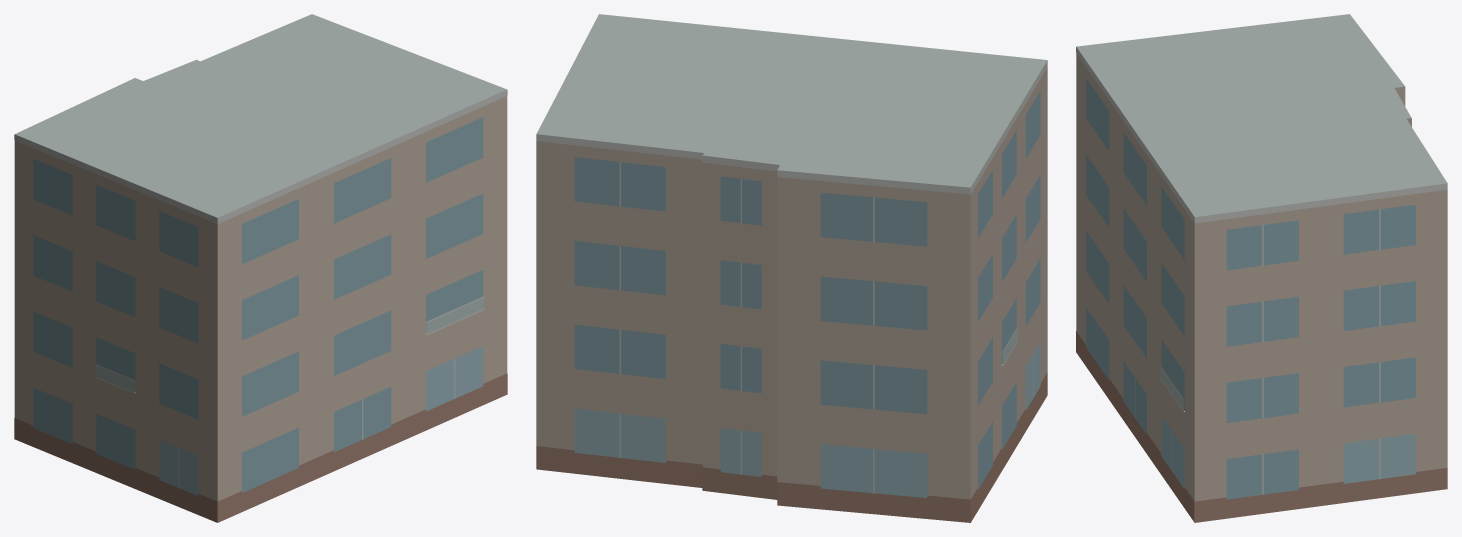
The model's file is survey-upis-32585699.glb.
3 views of the same model, side by side, from view 1: azimuth 30°, elevation 25°; view 2: azimuth 150°, elevation 25°; view 3: azimuth 270°, elevation 25° (orthographic). The views are drawn at different scales.
Visible parts, largest first — view 1: survey-upis-32585699.tmp; view 2: survey-upis-32585699.tmp; view 3: survey-upis-32585699.tmp.
Part boxes in pixels (x1,y1,x2,y2): survey-upis-32585699.tmp: (14,14,507,522); survey-upis-32585699.tmp: (536,14,1047,522); survey-upis-32585699.tmp: (1076,14,1447,522).
Bounding box in the file's own units: 16.98 × 11.9 × 13.12.
